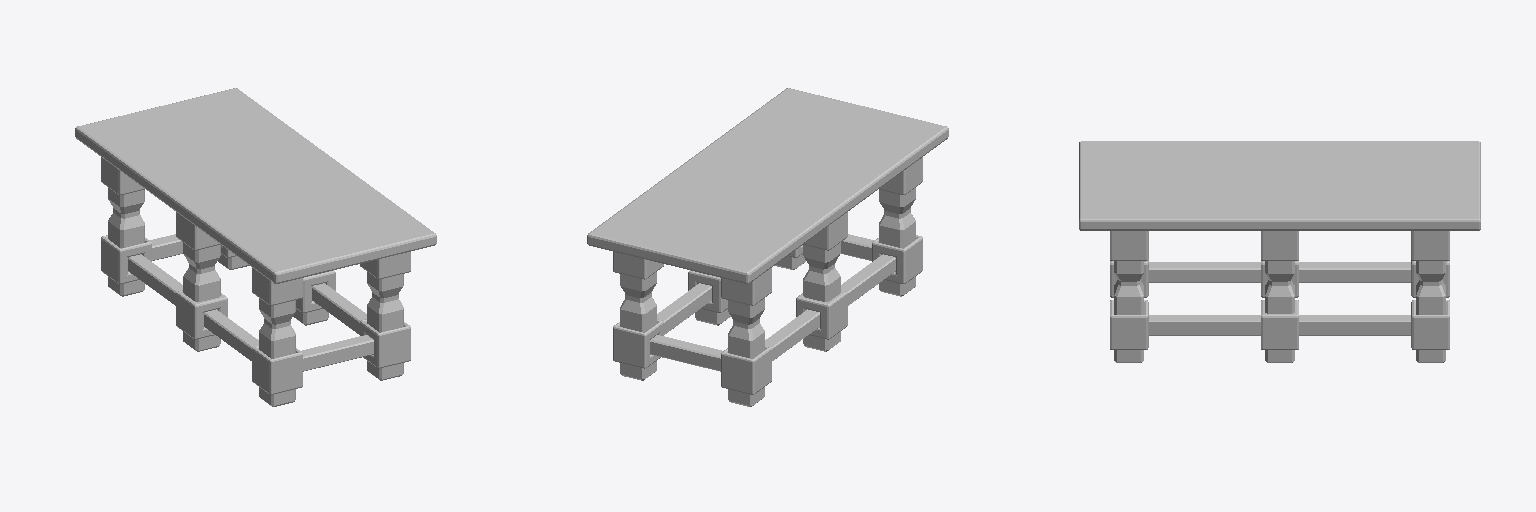
Rendered from Table.obj.
The picture shows the model from 3 angles: view 1: azimuth 30°, elevation 25°; view 2: azimuth 150°, elevation 25°; view 3: azimuth 270°, elevation 25°; orthographic projection.
Parts seen in each view (by area): view 1: Table; view 2: Table; view 3: Table.
Boxes of the visible parts, x1,y1,x2,y2 form: Table: [75, 88, 436, 406]; Table: [587, 88, 948, 406]; Table: [1079, 141, 1480, 362].
Size of the model in its own units: 1.4 by 1.25 by 3.